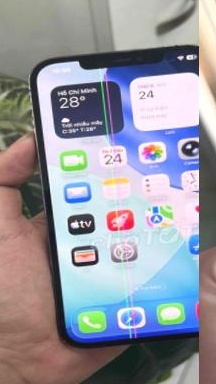screen_defect: (78, 51, 167, 348)
